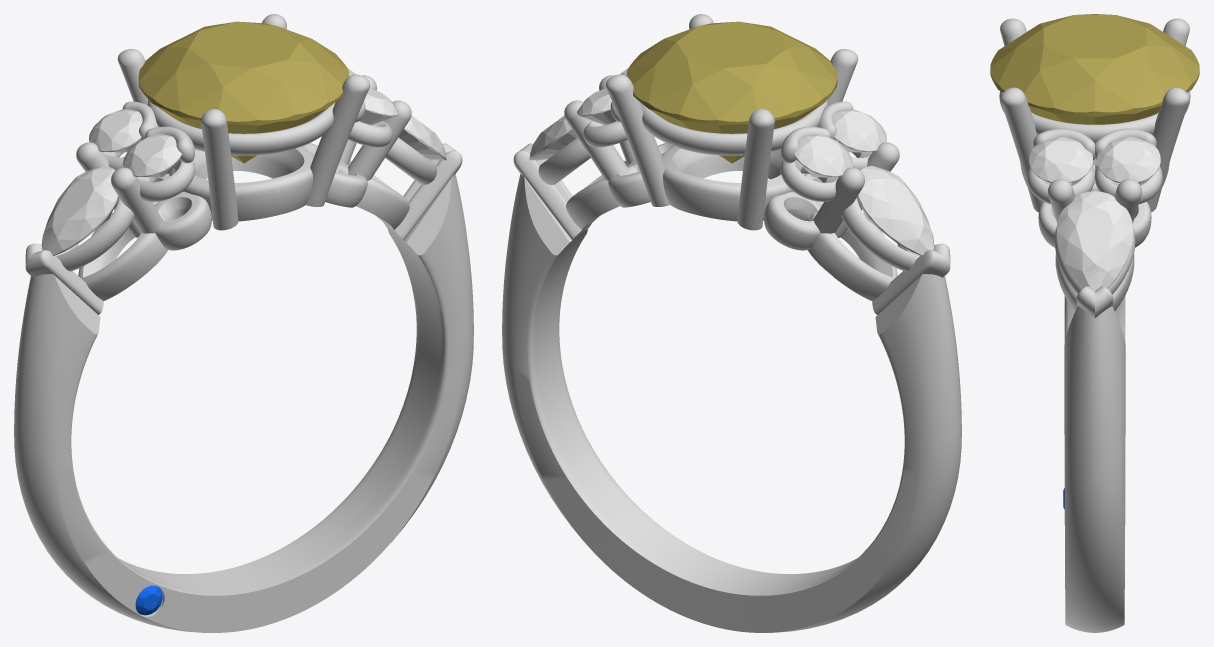
The model's file is ScottB cluster.glb.
The picture shows the model from 3 angles, left to right: view 1: azimuth 30°, elevation 25°; view 2: azimuth 150°, elevation 25°; view 3: azimuth 270°, elevation 25°; orthographic projection.
Parts seen in each view (by area): view 1: v2 PT for 3d model, Scott spessartite garnet for 3d model, v2 dia for 3d model.003, v2 dia for 3d model.005, v2 dia for 3d model.004, v2 dia for 3d model, v2 dia for 3d model.002, Scott sapph for 3d model; view 2: v2 PT for 3d model, Scott spessartite garnet for 3d model, v2 dia for 3d model.003, v2 dia for 3d model.004, v2 dia for 3d model.005, v2 dia for 3d model, v2 dia for 3d model.001; view 3: v2 PT for 3d model, Scott spessartite garnet for 3d model, v2 dia for 3d model, v2 dia for 3d model.001, v2 dia for 3d model.002.
Part boxes in pixels (<box>): v2 PT for 3d model: <box>14,14,473,632</box>; Scott spessartite garnet for 3d model: <box>138,21,349,163</box>; v2 dia for 3d model.003: <box>41,166,118,255</box>; v2 dia for 3d model.005: <box>123,134,182,177</box>; v2 dia for 3d model.004: <box>89,109,142,152</box>; v2 dia for 3d model: <box>398,116,446,160</box>; v2 dia for 3d model.002: <box>359,88,398,125</box>; Scott sapph for 3d model: <box>135,585,162,615</box>; v2 PT for 3d model: <box>502,14,961,632</box>; Scott spessartite garnet for 3d model: <box>626,21,837,163</box>; v2 dia for 3d model.003: <box>857,166,934,255</box>; v2 dia for 3d model.004: <box>793,134,852,177</box>; v2 dia for 3d model.005: <box>833,109,886,152</box>; v2 dia for 3d model: <box>529,116,577,160</box>; v2 dia for 3d model.001: <box>577,88,616,125</box>; v2 PT for 3d model: <box>999,18,1190,632</box>; Scott spessartite garnet for 3d model: <box>990,14,1199,124</box>; v2 dia for 3d model: <box>1056,191,1133,290</box>; v2 dia for 3d model.001: <box>1097,136,1160,182</box>; v2 dia for 3d model.002: <box>1029,136,1092,182</box>.
Size of the model in its own units: 20.32 by 24.71 by 8.2.
